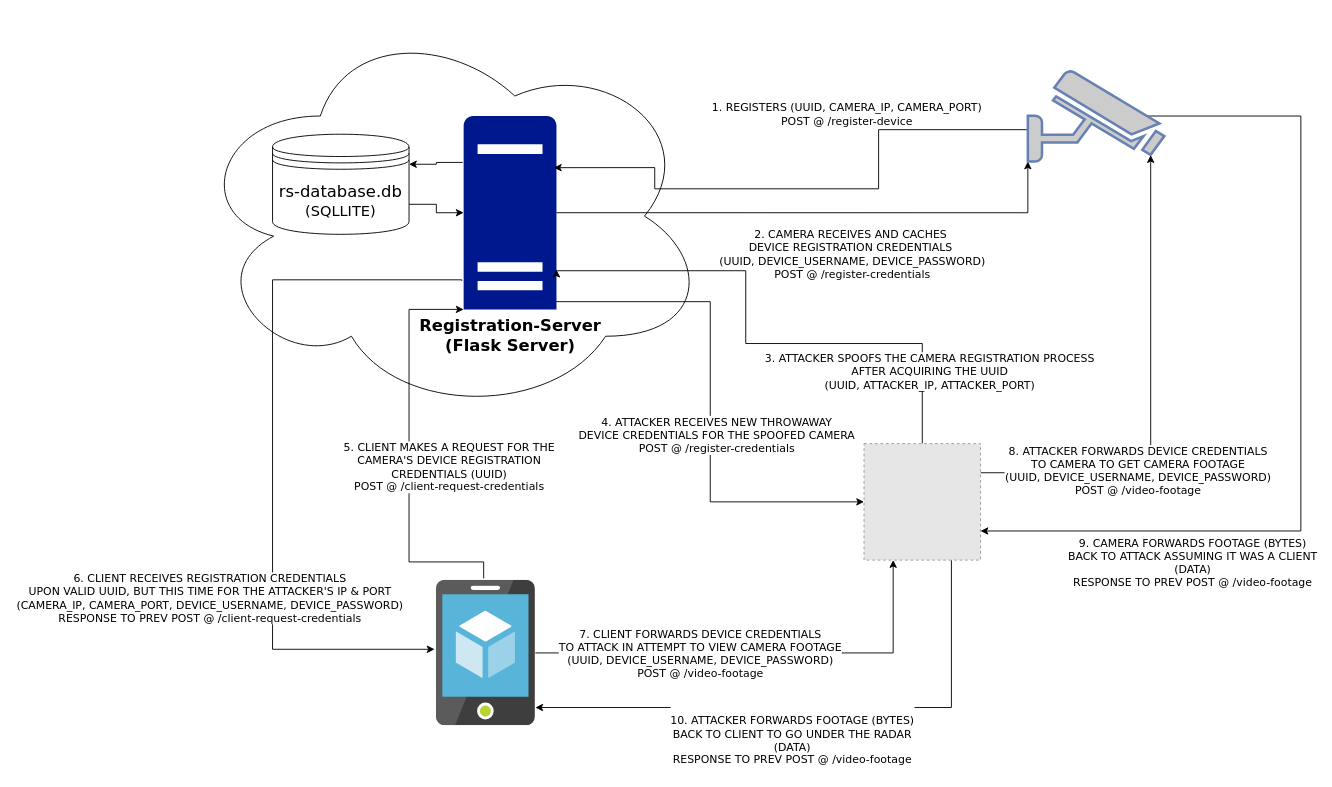
The diagram is 1332 pixels wide and 787 high, and some of its shapes have lost their labels. Grey dashed boxes stand in for pictures. The centre of each missing label's shape, as x and y in pixels:
"Camera (Flask Server)" goes at point (1095, 115).
"Client (HTTP Client)" goes at point (485, 652).
